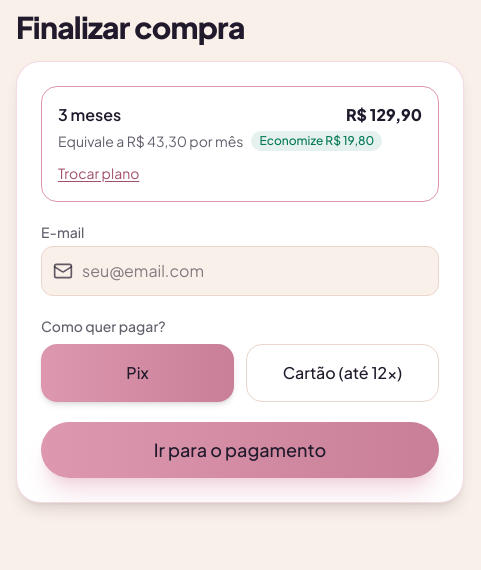
Test: Checkout › mostra para onde vai o acesso quando o e-mail é válido
Check: the text "O acesso vai para" is not shown
Type "ana@b.com" into the field labelled "E-mail".
click(240, 271); type("ana@b.com")  # box [41,246,439,296]
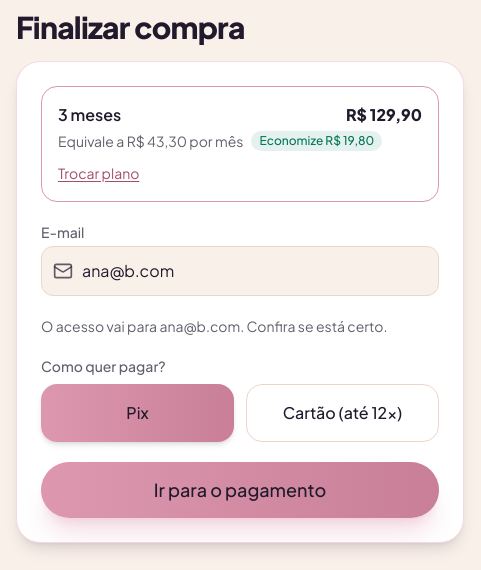
Check: the text "O acesso vai para ana@b.com. Confira se está certo." is shown, box [41,316,439,336]
